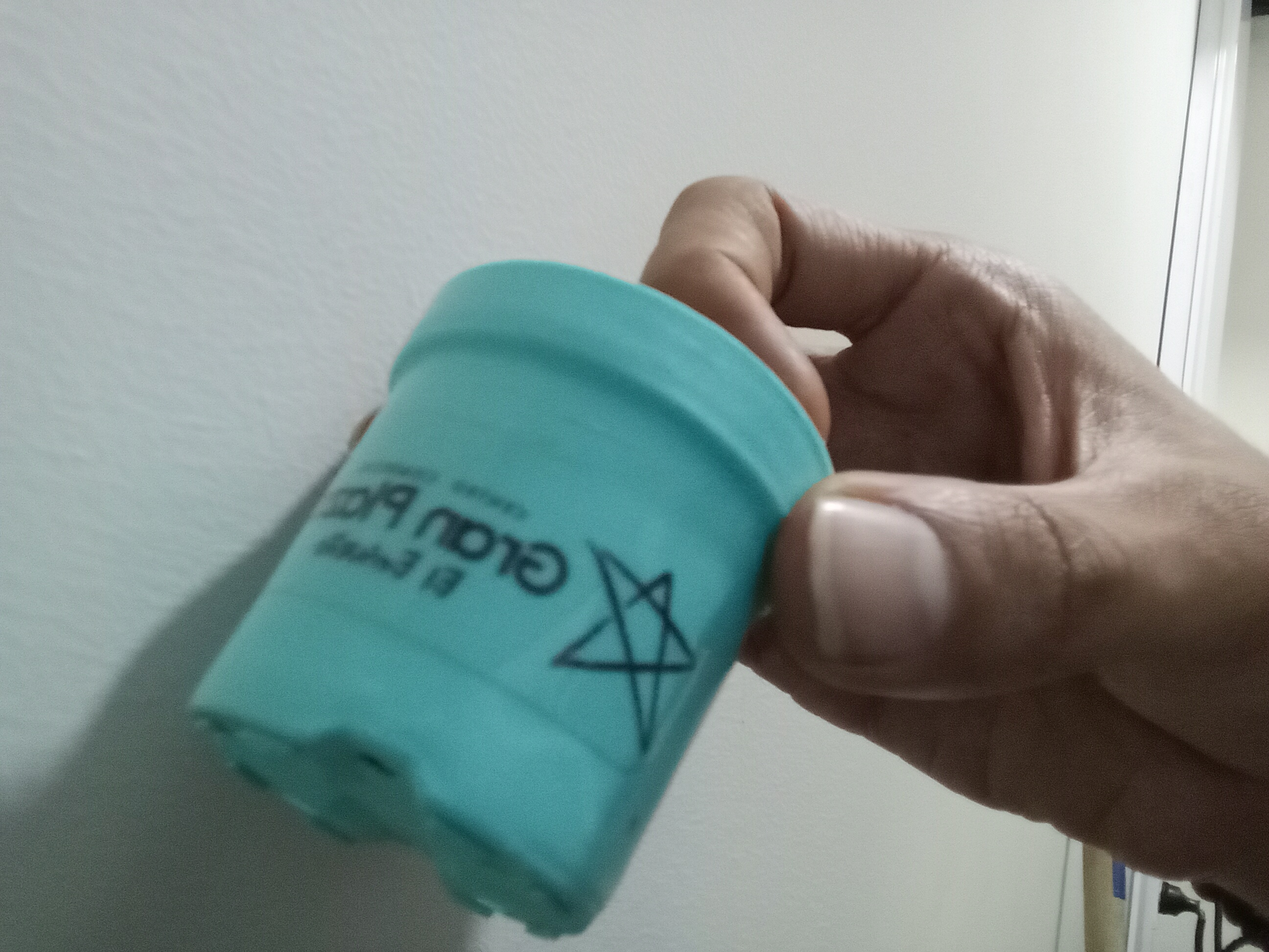Plastico: (190, 259, 839, 939)
